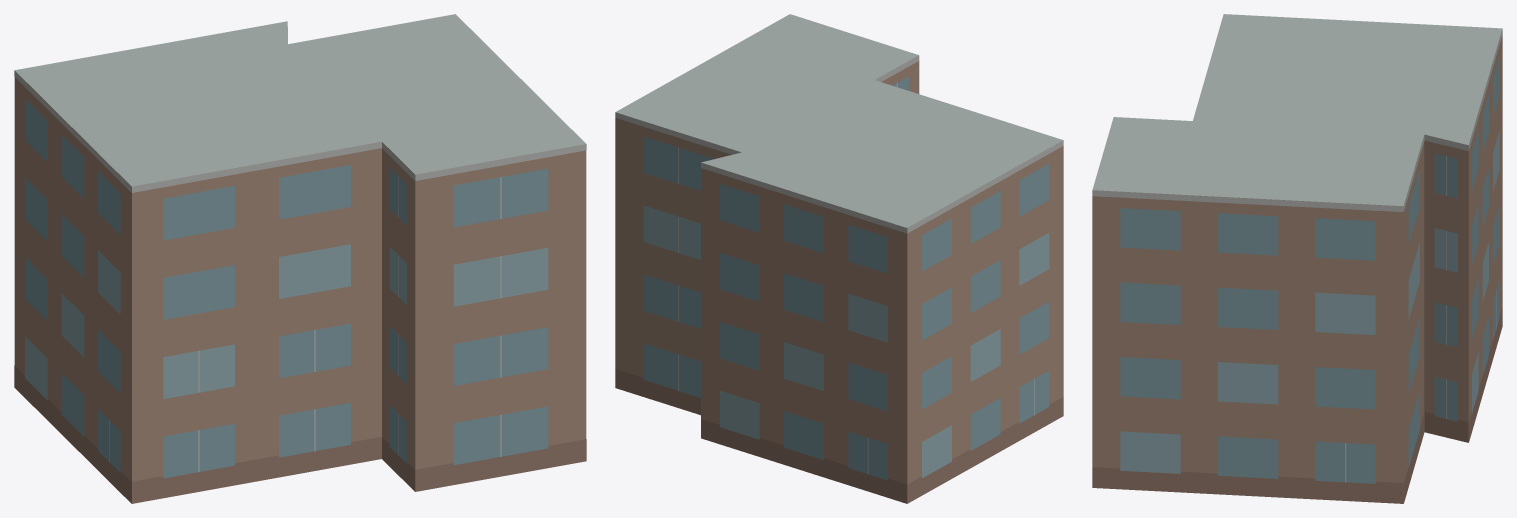
Rendered from residential-254e275c-8da7-4e0f-8f25-3b5ee45899fb.glb.
3 renders of one model, left to right at view 1: azimuth 30°, elevation 25°; view 2: azimuth 150°, elevation 25°; view 3: azimuth 270°, elevation 25°, orthographic. The views are drawn at different scales.
Visible parts, largest first — view 1: residential-254e275c-8da7-4e0f-8f25-3b5ee45899fb.tmp; view 2: residential-254e275c-8da7-4e0f-8f25-3b5ee45899fb.tmp; view 3: residential-254e275c-8da7-4e0f-8f25-3b5ee45899fb.tmp.
Boxes of the visible parts, <box> form: residential-254e275c-8da7-4e0f-8f25-3b5ee45899fb.tmp: <box>14,14,586,503</box>; residential-254e275c-8da7-4e0f-8f25-3b5ee45899fb.tmp: <box>615,14,1063,503</box>; residential-254e275c-8da7-4e0f-8f25-3b5ee45899fb.tmp: <box>1092,14,1502,503</box>.
Size of the model in its own units: 16.91 by 12.2 by 15.25.
